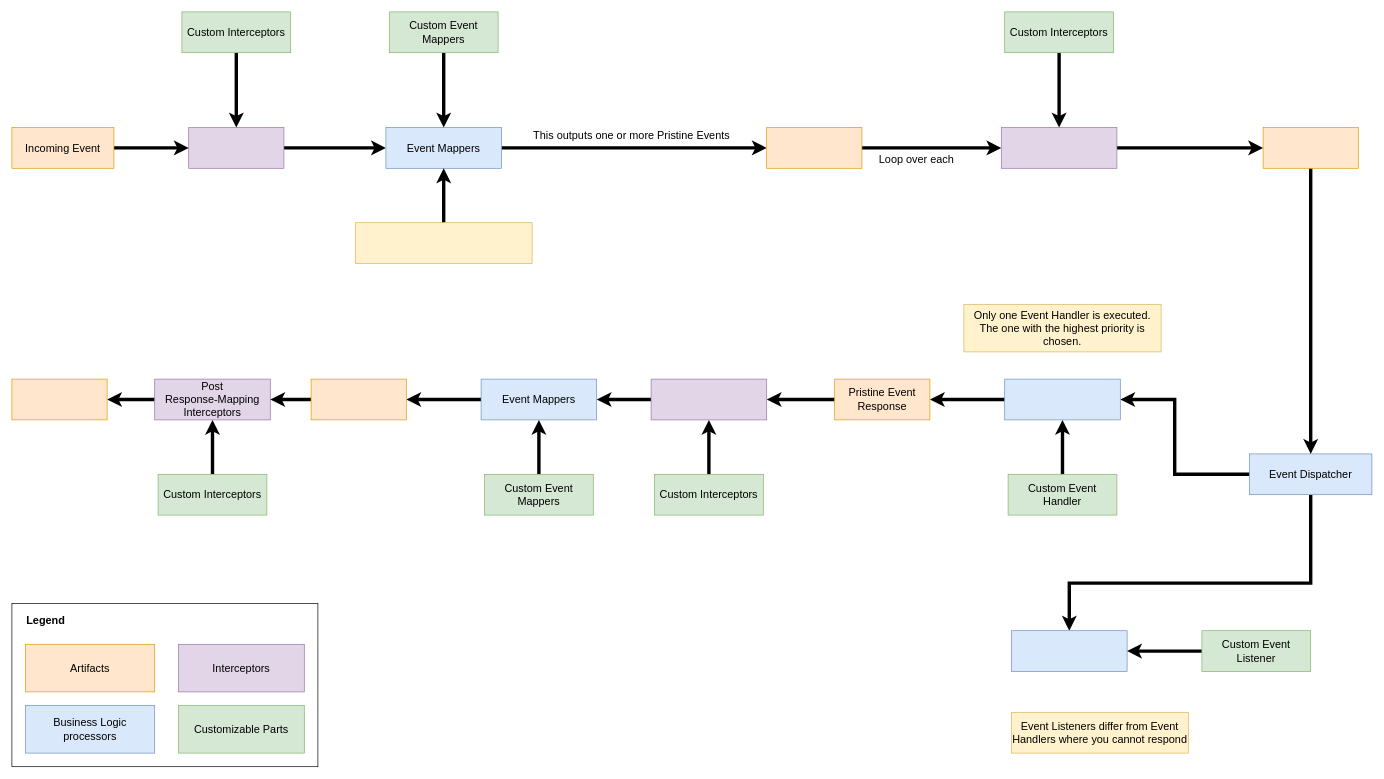
The diagram is 1384 pixels wide and 779 high, and some of its shapes have lost their labels. The centre of each missing label's shape, as x and y in pixels:
Event Handlers: [1062,399]
Event Listeners: [1069,651]
EventMappers are called to "map" the event into a Pristine Event: [443,243]
Final Event Response Returned: [59,399]
Mapped Event Response: [358,399]
Post-Mapping Interceptors: [1059,147]
Pre Response-Mapping Interceptors: [708,399]
Pre-Mapping Interceptors: [236,147]
Pristine Event: [1310,147]
Pristine Events: [814,147]
